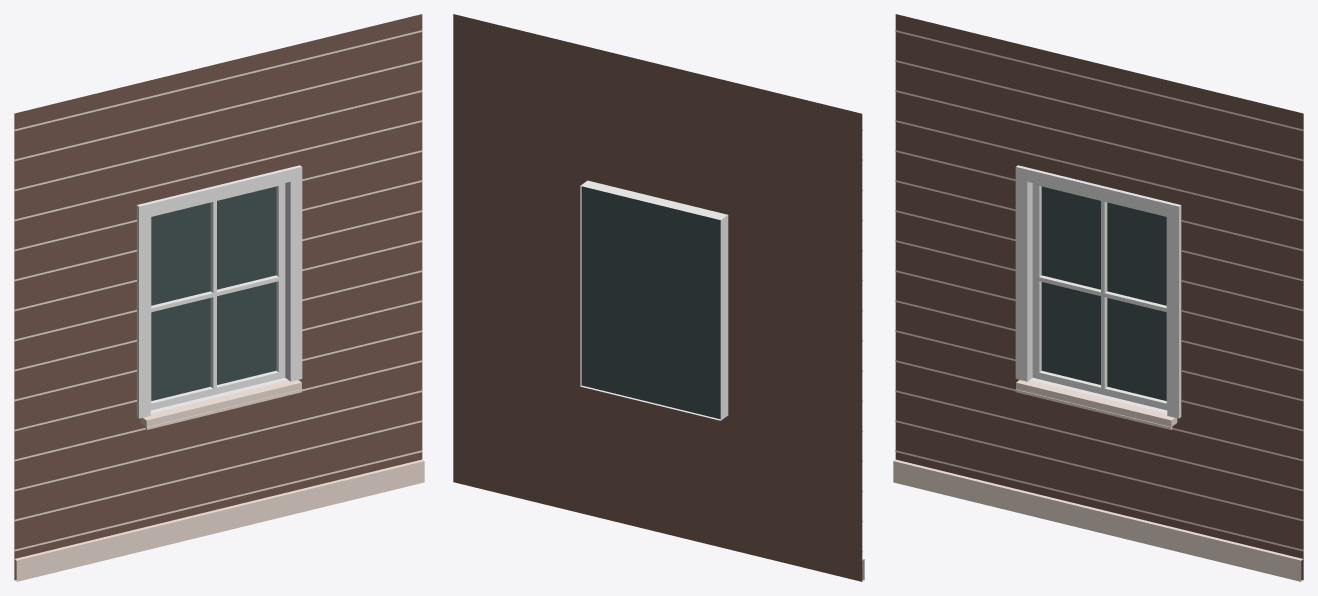
File: top-w1_close.fbx
3 views of the same model, side by side, from view 1: azimuth 30°, elevation 25°; view 2: azimuth 150°, elevation 25°; view 3: azimuth 330°, elevation 25° (orthographic).
Visible parts, largest first — view 1: a2000s2/800/top-w1_close; view 2: a2000s2/800/top-w1_close; view 3: a2000s2/800/top-w1_close.
Boxes of the visible parts, box(x1,y1,x2,y2) form: a2000s2/800/top-w1_close: box(14, 14, 424, 581); a2000s2/800/top-w1_close: box(453, 14, 864, 581); a2000s2/800/top-w1_close: box(893, 14, 1303, 581).
Bounding box in the file's own units: 3.2 × 3.5 × 0.185.
